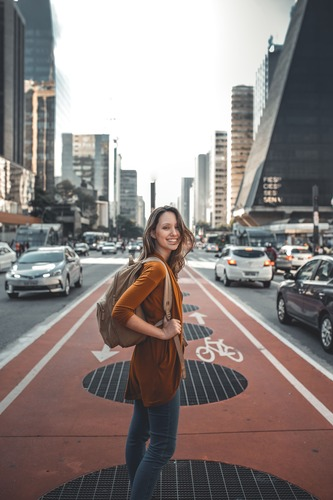without_mask: (158, 218, 181, 250)
